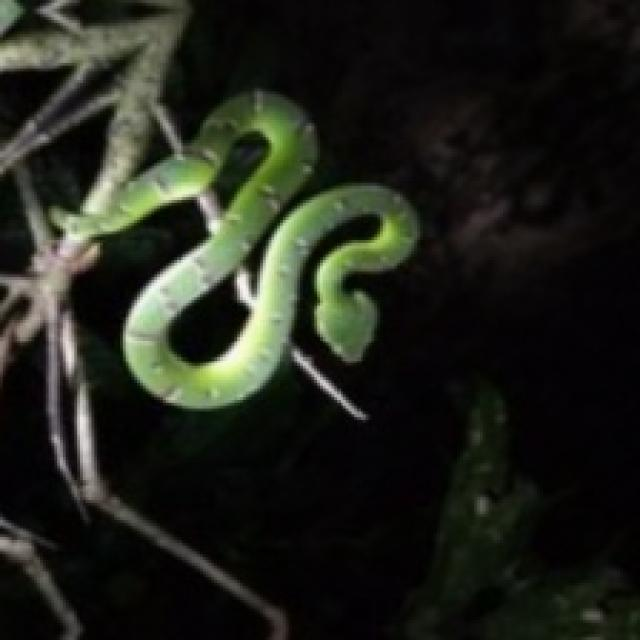north ph temple pitviper: (51, 91, 417, 406)
